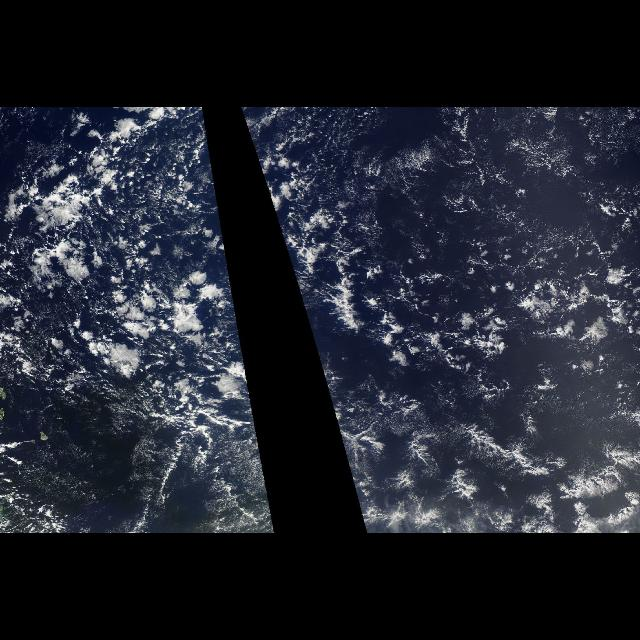Gravel: (243, 117, 639, 419), (7, 117, 257, 487)
Sugar: (57, 408, 275, 532), (330, 116, 440, 214), (337, 430, 369, 532)
